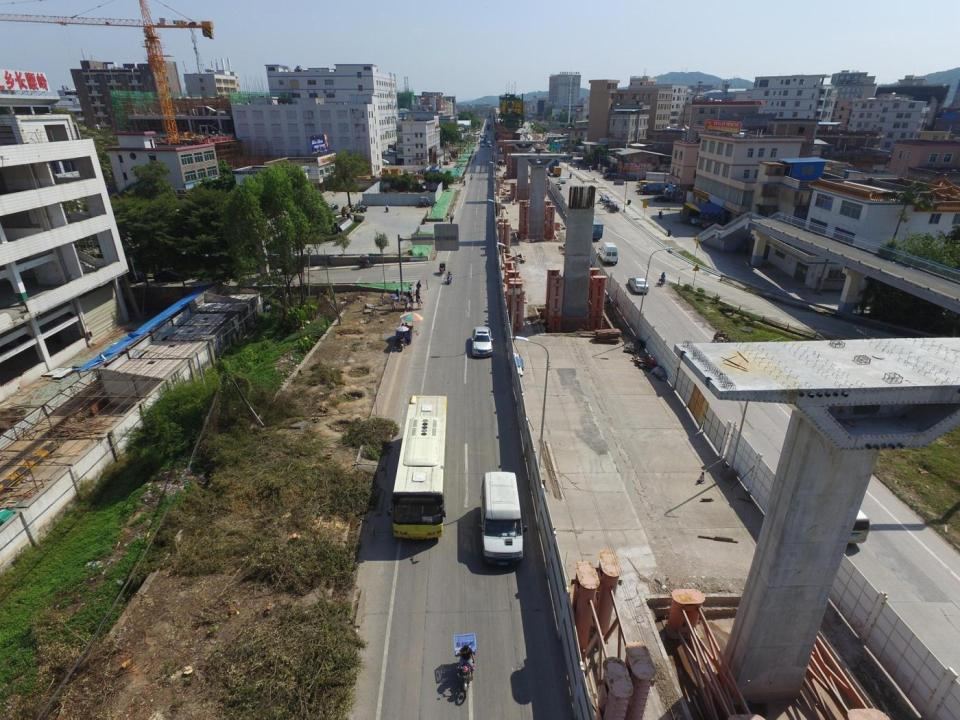bus: (388, 395, 447, 540), (480, 471, 523, 569), (826, 498, 869, 544), (640, 180, 664, 191)
car: (471, 326, 493, 357), (628, 276, 649, 294), (655, 194, 673, 202), (554, 182, 562, 190), (559, 178, 566, 183)
truck: (588, 219, 604, 241), (642, 182, 665, 194), (548, 160, 560, 173)
van: (598, 243, 617, 264)
